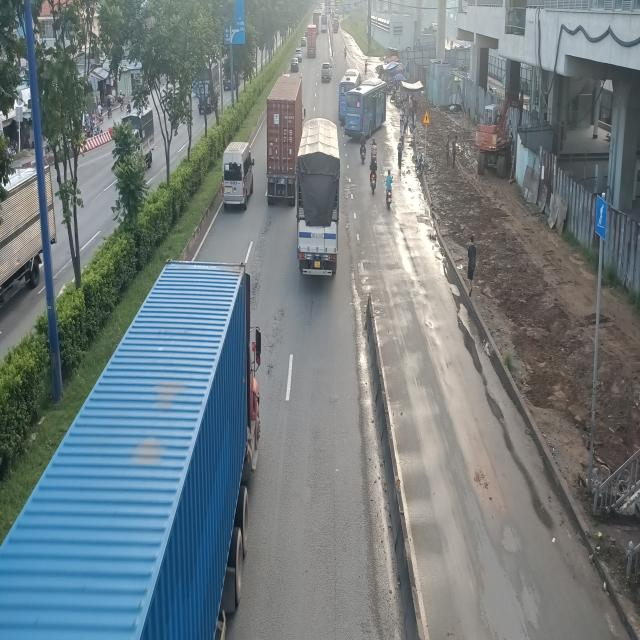coach: (346, 80, 386, 136), (336, 69, 359, 120)
container: (0, 262, 267, 637), (265, 74, 305, 208)
truck: (298, 117, 345, 283)
van: (221, 142, 255, 212)
